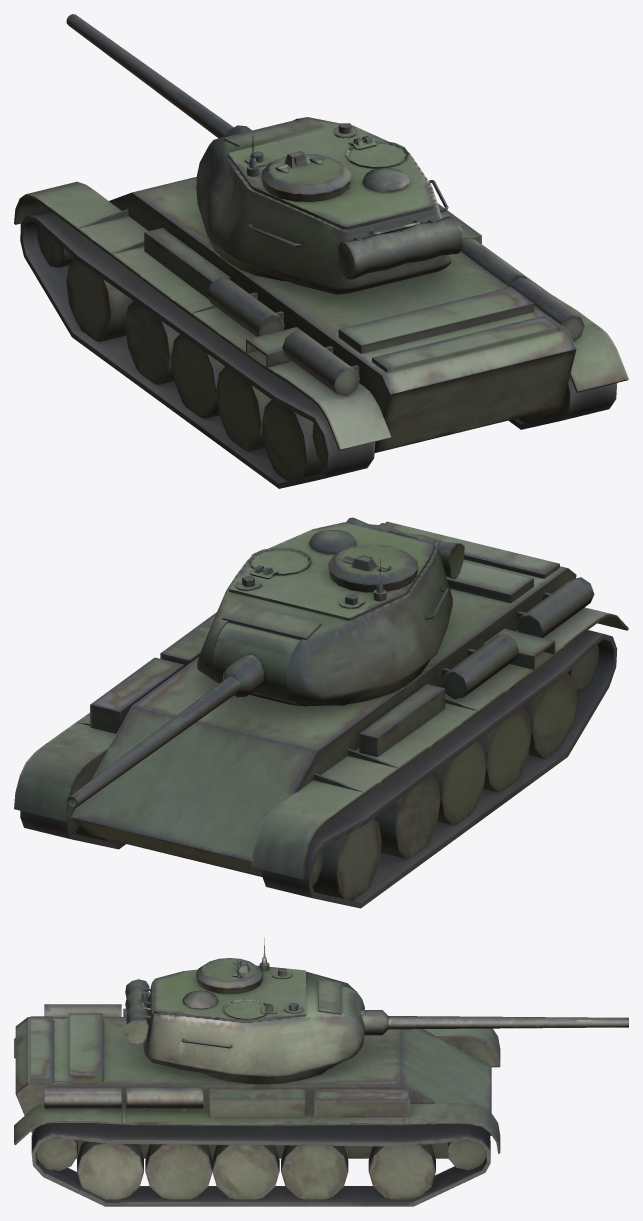
3 views of the same model, one above another, from view 1: azimuth 30°, elevation 25°; view 2: azimuth 150°, elevation 25°; view 3: azimuth 270°, elevation 25° (orthographic). The views are drawn at different scales.
Parts seen in each view (by area): view 1: T-44 Hull, T-44 Turret; view 2: T-44 Hull, T-44 Turret; view 3: T-44 Hull, T-44 Turret.
Part boxes in pixels (box(x1,y1,x2,y2)): T-44 Hull: box(14, 176, 628, 488); T-44 Turret: box(66, 14, 463, 294); T-44 Hull: box(14, 521, 628, 908); T-44 Turret: box(66, 517, 464, 808); T-44 Hull: box(14, 1004, 500, 1206); T-44 Turret: box(125, 937, 628, 1084).
Bounding box in the file's own units: 3.1 × 2.67 × 7.68.
